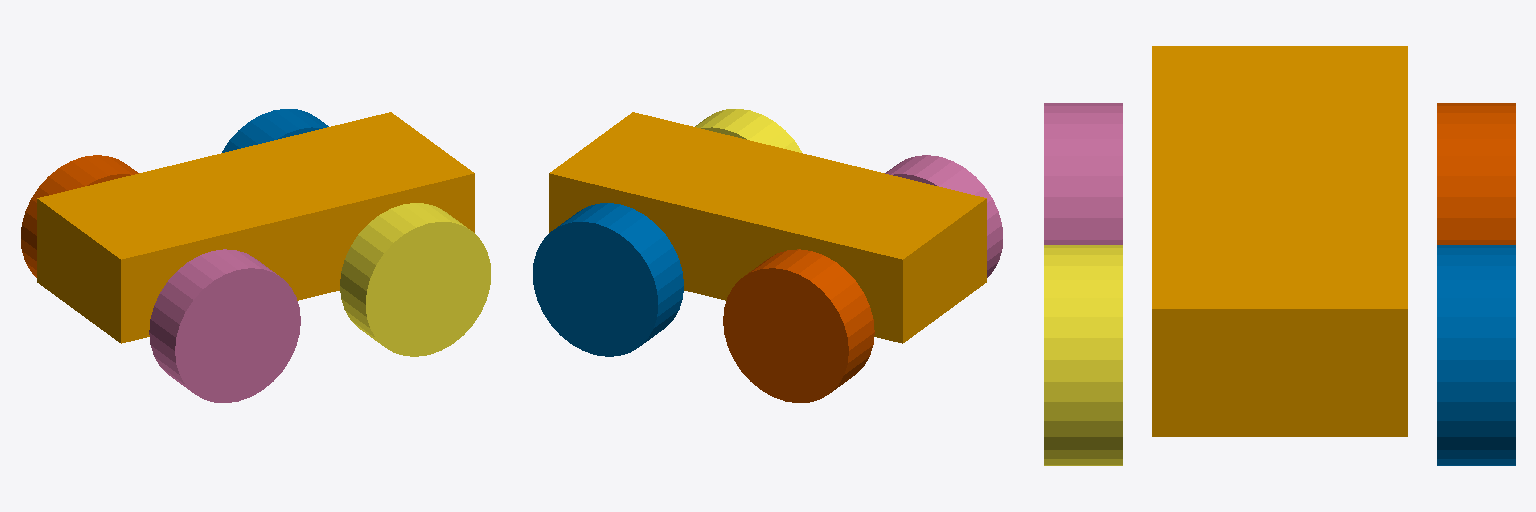
robot.urdf — roas:
<?xml version="1.0" ?>
<robot name="roas">
  <material name="Black">
    <color rgba="0.00392156862745098 0.00392156862745098 0.00392156862745098 1.0"/>
  </material>
  <material name="dark_grey">
    <color rgba="0.2 0.2 0.2 1.0"/>
  </material>
  <!-- Base link -->
  <link name="base_link">
    <visual>
      <origin rpy="0 0 0" xyz="0 0 0"/>
      <geometry>
       <!--  <mesh filename="[local-path]/gazebo_nav2/scout_bot_description/meshes/include/base_link.dae"/> -->
         <box size="0.925 0.38 0.21"/>
      </geometry>
    </visual>
    <collision>
      <origin rpy="0 0 0" xyz="0 0 0.008"/>
      <geometry>
        <box size="0.925 0.38 0.21"/>
      </geometry>
    </collision>
    <collision>
      <origin rpy="0 0 0" xyz="0 0 0.034999999999999996"/>
      <geometry>
        <box size="0.15416666666666667 0.627 0.06999999999999999"/>
      </geometry>
    </collision>
  </link>
  <link name="base_footprint"/>
  <joint name="base_footprint_joint" type="fixed">
    <origin rpy="0 0 0" xyz="0 0 -0.23479"/>
    <parent link="base_link"/>
    <child link="base_footprint"/>
  </joint>
  <link name="inertial_link">
    <inertial>
      <mass value="40"/>
      <origin xyz="0.0 0.0 0.0"/>
      <inertia ixx="2.288641" ixy="0" ixz="0" iyy="5.103976" iyz="0" izz="3.431465"/>
    </inertial>
  </link>
  <joint name="inertial_joint" type="fixed">
    <origin rpy="0 0 0" xyz="0 0 0"/>
    <parent link="base_link"/>
    <child link="inertial_link"/>
  </joint>
  <link name="front_right_wheel_link">
    <inertial>
      <mass value="3"/>
      <origin xyz="0 0 0"/>
      <inertia ixx="0.7171" ixy="0" ixz="0" iyy="0.1361" iyz="0" izz="0.7171"/>
    </inertial>
    <visual>
      <origin rpy="-1.570795 0 0" xyz="0 0 0"/>
      <geometry>
<!--         <mesh filename="package://scout_bot_description/meshes/include/wheel_type1.dae"/>-->
         <cylinder radius="0.16459" length="0.11653"/>
      </geometry>
    </visual>
    <collision>
      <origin rpy="-1.570795 0 0" xyz="0 0 0"/>
      <geometry>
        <cylinder length="0.11653" radius="0.16459"/>
      </geometry>
    </collision>
  </link>
  <joint name="front_right_wheel" type="continuous">
    <parent link="base_link"/>
    <child link="front_right_wheel_link"/>
    <origin rpy="0 0 0" xyz="0.249 -0.29153 -0.0702"/>
    <axis rpy="0 0 0" xyz="0 1 0"/>
  </joint>
  <link name="front_left_wheel_link">
    <inertial>
      <mass value="3"/>
      <origin xyz="0 0 0"/>
      <inertia ixx="0.7171" ixy="0" ixz="0" iyy="0.1361" iyz="0" izz="0.7171"/>
    </inertial>
    <visual>
      <origin rpy="1.570795 0 0" xyz="0 0 0"/>
      <geometry>
        <!-- <mesh filename="package://scout_bot_description/meshes/include/wheel_type2.dae"/> -->
         <cylinder radius="0.16459" length="0.11653"/>
      </geometry>
    </visual>
    <collision>
      <origin rpy="1.570795 0 0" xyz="0 0 0"/>
      <geometry>
        <cylinder length="0.11653" radius="0.16459"/>
      </geometry>
    </collision>
  </link>
  <joint name="front_left_wheel" type="continuous">
    <parent link="base_link"/>
    <child link="front_left_wheel_link"/>
    <origin rpy="0 0 0" xyz="0.249 0.29153 -0.0702"/>
    <axis rpy="0 0 0" xyz="0 1 0"/>
  </joint>
  <link name="rear_left_wheel_link">
    <inertial>
      <mass value="3"/>
      <origin xyz="0 0 0"/>
      <inertia ixx="0.7171" ixy="0" ixz="0" iyy="0.1361" iyz="0" izz="0.7171"/>
    </inertial>
    <visual>
      <origin rpy="1.570795 0 0" xyz="0 0 0"/>
      <geometry>
        <!-- <mesh filename="package://scout_bot_description/meshes/include/wheel_type1.dae"/> -->
        <cylinder radius="0.16459" length="0.11653"/>
      </geometry>
    </visual>
    <collision>
      <origin rpy="1.570795 0 0" xyz="0 0 0"/>
      <geometry>
        <cylinder length="0.11653" radius="0.16459"/>
      </geometry>
    </collision>
  </link>
  <joint name="rear_left_wheel" type="continuous">
    <parent link="base_link"/>
    <child link="rear_left_wheel_link"/>
    <origin rpy="0 0 0" xyz="-0.249 0.29153 -0.0702"/>
    <axis rpy="0 0 0" xyz="0 1 0"/>
  </joint>
  <link name="rear_right_wheel_link">
    <inertial>
      <mass value="3"/>
      <origin xyz="0 0 0"/>
      <inertia ixx="0.7171" ixy="0" ixz="0" iyy="0.1361" iyz="0" izz="0.7171"/>
    </inertial>
    <visual>
      <origin rpy="-1.570795 0 0" xyz="0 0 0"/>
      <geometry>
        <!-- <mesh filename="package://scout_bot_description/meshes/include/wheel_type2.dae"/> -->
        <cylinder radius="0.16459" length="0.11653"/>
      </geometry>
    </visual>
    <collision>
      <origin rpy="-1.570795 0 0" xyz="0 0 0"/>
      <geometry>
        <cylinder length="0.11653" radius="0.16459"/>
      </geometry>
    </collision>
  </link>
  <joint name="rear_right_wheel" type="continuous">
    <parent link="base_link"/>
    <child link="rear_right_wheel_link"/>
    <origin rpy="0 0 0" xyz="-0.249 -0.29153 -0.0702"/>
    <axis rpy="0 0 0" xyz="0 1 0"/>
  </joint>
  <!-- Frame -->
  <link name="main_frame_link">
    <visual>
      <origin rpy="0 0 0" xyz="0 0 0"/>
      <geometry>
        <!-- <mesh filename="package://scout_bot_description/meshes/include/Frame.stl"/> -->
      </geometry>
      <material name="dark_grey"/>
    </visual>
    <collision>
      <origin rpy="0 0 0" xyz="0 0 0"/>
      <geometry>
<!--         <mesh filename="package://scout_bot_description/meshes/include/Frame.stl"/>
 -->      </geometry>
    </collision>
  </link>
  <joint name="main_frame_joint" type="fixed">
    <parent link="base_footprint"/>
    <child link="main_frame_link"/>
    <origin rpy="0 0 0" xyz="0 0 0.1349"/>
  </joint>


  <!-- Ouster -->
  <link name="os_sensor">
    <visual>
      <origin rpy="-0.0022 -0.0125 0.0015" xyz="0.5421 0.0020 0.3855"/>
      <geometry>
<!--         <mesh filename="package://scout_bot_description/meshes/lidar/os1_64.dae"/>
 -->      </geometry>
    </visual>
  </link>
  <gazebo reference="os_sensor">
    <sensor name="lidar_3d" type="ray">
      <pose>0 0 0 0 0 0</pose>
      <visualize>false</visualize>
      <update_rate>30</update_rate>
      <ray>
        <scan>
          <horizontal>
            <samples>440</samples>
            <resolution>1</resolution>
            <min_angle>-3.141592653589793</min_angle>
            <max_angle>3.141592653589793</max_angle>
          </horizontal>
          <vertical>
            <samples>16</samples>
            <resolution>1</resolution>
            <min_angle>-0.2617993877991494</min_angle>
            <max_angle>0.2617993877991494</max_angle>
          </vertical>
        </scan>
        <range>
          <min>0.3</min>
          <max>50.0</max>
          <resolution>0.001</resolution>
        </range>
        <noise>
          <type>gaussian</type>
          <mean>0.0</mean>
          <stddev>0.0</stddev>
        </noise>
      </ray>
      <plugin filename="libgazebo_ros_velodyne_laser.so" name="gazebo_ros_laser_controller">
        <topicName>/points_raw</topicName>
        <frameName>base_link</frameName>
        <min_range>0.3</min_range>
        <max_range>50.0</max_range>
        <gaussianNoise>0.008</gaussianNoise>
      </plugin>
    </sensor>
  </gazebo>
  <gazebo reference="os_sensor">
    <sensor name="lidar_2d" type="ray">
      <pose>0 0 0 0 0 0</pose>
      <visualize>false</visualize>
      <update_rate>30</update_rate>
      <ray>
        <scan>
          <horizontal>
            <samples>440</samples>
            <resolution>1</resolution>
            <min_angle>-3.141592653589793</min_angle>
            <max_angle>3.141592653589793</max_angle>
          </horizontal>
        </scan>
        <range>
          <min>0.9</min>
          <max>130.0</max>
          <resolution>0.001</resolution>
        </range>
        <noise>
          <type>gaussian</type>
          <mean>0.0</mean>
          <stddev>0.0</stddev>
        </noise>
      </ray>
      <plugin filename="libgazebo_ros_ray_sensor.so" name="scan">
        <output_type>sensor_msgs/LaserScan</output_type>
        <topicName>/scan</topicName>
        <frameName>os_sensor</frameName>
        <min_range>0.9</min_range>
        <max_range>130.0</max_range>
        <gaussianNoise>0.008</gaussianNoise>
      </plugin>
    </sensor>
  </gazebo>
  <joint name="os_sensor_joint" type="fixed">
    <parent link="base_link"/>
    <child link="os_sensor"/>
    <origin rpy="-0.0022 -0.0125 0.0015" xyz="0.5421 0.0020 0.3855"/>
  </joint>

  <!-- IMU Sensor -->
  <link name="imu_link"/>
  <joint name="imu_joint" type="fixed">
    <parent link="base_link"/>
    <child link="imu_link"/>
    <origin xyz="0 0 0.01" rpy="0 0 0"/>
  </joint>
  <gazebo reference="imu_link">
    <gravity>true</gravity>
    <sensor name="imu_sensor" type="imu">
      <plugin filename="libgazebo_ros_imu_sensor.so" name="imu">
        <topicName>imu_raw</topicName>
        <update_rate>0</update_rate>
        <bodyName>imu_link</bodyName>
        <updateRateHZ>30.0</updateRateHZ>
        <gaussianNoise>0.0</gaussianNoise>
        <xyzOffset>0 0 0</xyzOffset>
        <rpyOffset>0 0 0</rpyOffset>
        <frameName>imu_link</frameName>
        <initialOrientationAsReference>false</initialOrientationAsReference>
      </plugin>
      <always_on>true</always_on>
      <update_rate>100</update_rate>
      <visualize>true</visualize>
      <imu>
        <angular_velocity>
          <x>
            <noise type="gaussian">
              <mean>0.0</mean>
              <stddev>2e-4</stddev>
              <bias_mean>0.0000075</bias_mean>
              <bias_stddev>0.0000008</bias_stddev>
            </noise>
          </x>
          <y>
            <noise type="gaussian">
              <mean>0.0</mean>
              <stddev>2e-4</stddev>
              <bias_mean>0.0000075</bias_mean>
              <bias_stddev>0.0000008</bias_stddev>
            </noise>
          </y>
          <z>
            <noise type="gaussian">
              <mean>0.0</mean>
              <stddev>2e-4</stddev>
              <bias_mean>0.0000075</bias_mean>
              <bias_stddev>0.0000008</bias_stddev>
            </noise>
          </z>
        </angular_velocity>
        <linear_acceleration>
          <x>
            <noise type="gaussian">
              <mean>0.0</mean>
              <stddev>1.7e-2</stddev>
              <bias_mean>0.1</bias_mean>
              <bias_stddev>0.001</bias_stddev>
            </noise>
          </x>
          <y>
            <noise type="gaussian">
              <mean>0.0</mean>
              <stddev>1.7e-2</stddev>
              <bias_mean>0.1</bias_mean>
              <bias_stddev>0.001</bias_stddev>
            </noise>
          </y>
          <z>
            <noise type="gaussian">
              <mean>0.0</mean>
              <stddev>1.7e-2</stddev>
              <bias_mean>0.1</bias_mean>
              <bias_stddev>0.001</bias_stddev>
            </noise>
          </z>
        </linear_acceleration>
      </imu>
    </sensor>
  </gazebo>

  <!-- Sonar 1 (right) -->
  <link name="S2"/>
  <joint name="S2_joint" type="fixed">
    <parent link="base_footprint"/>
    <child link="S2"/>
    <origin rpy="0 0 1.5707963267948966" xyz="0 0.3 0.364"/>
  </joint>
  <!-- Sonar 2 (left) -->
  <link name="S1"/>
  <joint name="S1_joint" type="fixed">
    <parent link="base_footprint"/>
    <child link="S1"/>
    <origin rpy="0 0 -1.5707963267948966" xyz="0 -0.3 0.364"/>
  </joint>
  <!-- Sonar 3 -->
  <link name="S3"/>
  <joint name="S3_joint" type="fixed">
    <parent link="base_footprint"/>
    <child link="S3"/>
    <origin rpy="0 0 -3.141592653589793" xyz="-0.400 0.120 0.364"/>
  </joint>
  <!-- Sonar 4 -->
  <link name="S4"/>
  <joint name="S4_joint" type="fixed">
    <parent link="base_footprint"/>
    <child link="S4"/>
    <origin rpy="0 0 -3.141592653589793" xyz="-0.400 -0.120 0.364"/>
  </joint>
  <!-- Camera 1 -->
  <link name="Cam1"/>
  <joint name="Cam1_joint" type="fixed">
    <parent link="base_link"/>
    <child link="Cam1"/>
    <origin rpy="0 0 0" xyz="0.575 0 0.0945"/>
  </joint>
  <!-- Camera 2 -->
  <link name="Cam2"/>
  <joint name="Cam2_joint" type="fixed">
    <parent link="base_link"/>
    <child link="Cam2"/>
    <origin rpy="0 0 1.5707963267948966" xyz="0 0.303 0.1815"/>
  </joint>
  <!-- Camera 3 -->
  <link name="Cam3"/>
  <joint name="Cam3_joint" type="fixed">
    <parent link="base_link"/>
    <child link="Cam3"/>
    <origin rpy="0 0 -1.5707963267948966" xyz="0 -0.303 0.1815"/>
  </joint>
  <!-- Camera 4 -->
  <link name="Cam4"/>
  <joint name="Cam4_joint" type="fixed">
    <parent link="base_link"/>
    <child link="Cam4"/>
    <origin rpy="0 0 -3.141592653589793" xyz="-0.403 0 0.1295"/>
  </joint>
  <!-- diff_driving setting -->
  <gazebo>
    <plugin filename="libgazebo_ros_diff_drive.so" name="diff_drive">
      <ros>
        <!-- Set namespace -->
        <!-- <namespace>/demo</namespace> -->
        <!-- Remap default topics -->
        <!-- <remapping>cmd_vel:=cmd_demo</remapping>
      <remapping>odom:=odom_demo</remapping> -->
      </ros>
      <!-- Update rate -->
<!--       <update_rate>500</update_rate>
 -->      <!-- Number of wheel pairs -->
      <num_wheel_pairs>2</num_wheel_pairs>
      <!-- wheels0 -->
       
      <left_joint>front_left_wheel</left_joint>
      <right_joint>front_right_wheel</right_joint>
      <!-- wheels1-->
      <left_joint>rear_left_wheel</left_joint>
      <right_joint>rear_right_wheel</right_joint>
      <!-- kinematics -->
      <wheel_separation>0.44</wheel_separation>
      <wheel_separation>0.44</wheel_separation>
      <wheel_diameter>0.2</wheel_diameter>
      <wheel_diameter>0.2</wheel_diameter>
      <!-- limits -->
      <max_wheel_torque>4000</max_wheel_torque>
      <max_wheel_acceleration>1.5</max_wheel_acceleration> 
      <!-- output -->
      <publish_odom>true</publish_odom>
      <publish_odom_tf>false</publish_odom_tf>   <!-- SLAM 시 true -->
      <publish_wheel_tf>true</publish_wheel_tf> <!-- SLAM 시 true -->
      <odometry_frame>odom</odometry_frame>
      <robot_base_frame>base_link</robot_base_frame>
    </plugin>
  </gazebo>
</robot>

--- Render facts (derived) ---
3 views of the same robot in one strip: view 1: azimuth 30°, elevation 25°; view 2: azimuth 150°, elevation 25°; view 3: azimuth 270°, elevation 25° (orthographic).
Robot: roas — 18 links, 17 joints (4 continuous, 13 fixed); root link base_link; default pose: every joint at zero.
Links seen in each view (by area): view 1: base_link, rear_right_wheel_link, front_right_wheel_link, rear_left_wheel_link, front_left_wheel_link; view 2: base_link, rear_left_wheel_link, front_left_wheel_link, rear_right_wheel_link, front_right_wheel_link; view 3: base_link, front_right_wheel_link, front_left_wheel_link, rear_left_wheel_link, rear_right_wheel_link.
Boxes of the visible links, bbox=[...] form: base_link: bbox=[37, 112, 474, 343]; rear_right_wheel_link: bbox=[149, 249, 300, 402]; front_right_wheel_link: bbox=[340, 203, 490, 356]; rear_left_wheel_link: bbox=[21, 155, 138, 277]; front_left_wheel_link: bbox=[222, 109, 328, 152]; base_link: bbox=[549, 112, 986, 343]; rear_left_wheel_link: bbox=[723, 249, 874, 402]; front_left_wheel_link: bbox=[533, 203, 683, 356]; rear_right_wheel_link: bbox=[885, 155, 1002, 277]; front_right_wheel_link: bbox=[695, 109, 801, 152]; base_link: bbox=[1152, 46, 1407, 436]; front_right_wheel_link: bbox=[1044, 245, 1122, 465]; front_left_wheel_link: bbox=[1437, 245, 1515, 465]; rear_left_wheel_link: bbox=[1437, 103, 1515, 244]; rear_right_wheel_link: bbox=[1044, 103, 1122, 244].
Size in the robot's own frame: 0.925 by 0.6996 by 0.3398 metres.
Geometry: primitives only (box / cylinder / sphere), no mesh files.
